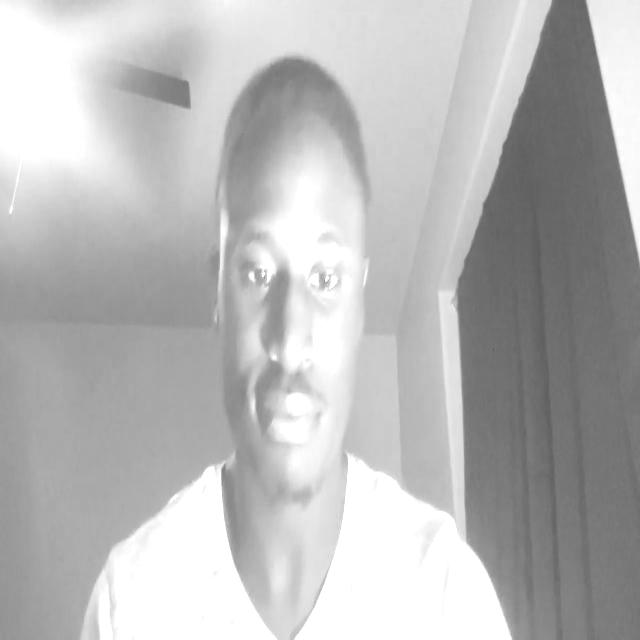real: (216, 108, 368, 506)
